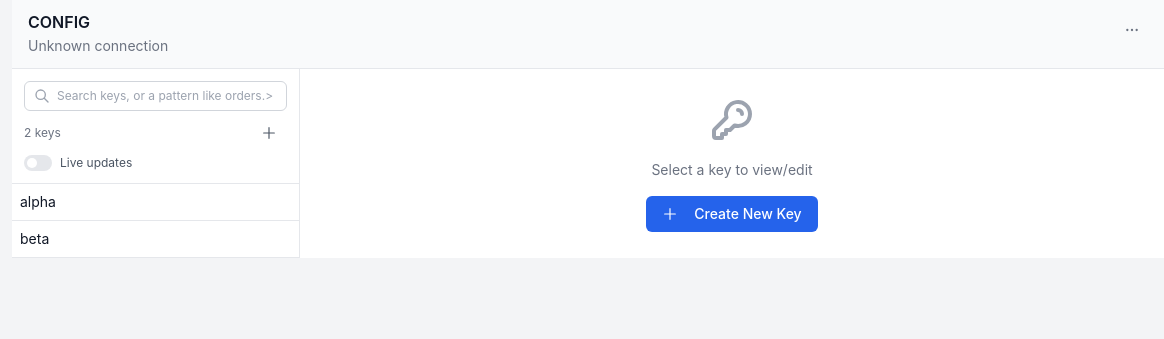
Test: KVStorePage › says the watch is reconnecting and why
Click the switch named "live updates". click: (38, 163)
box: [24, 155, 52, 171]
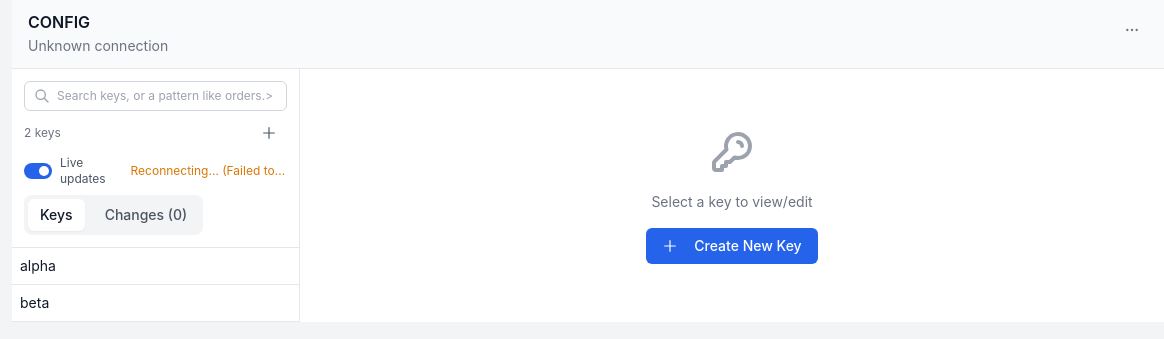
Expected: the text "Reconnecting… (Failed to fetch)" is shown, [130, 163, 287, 179]
